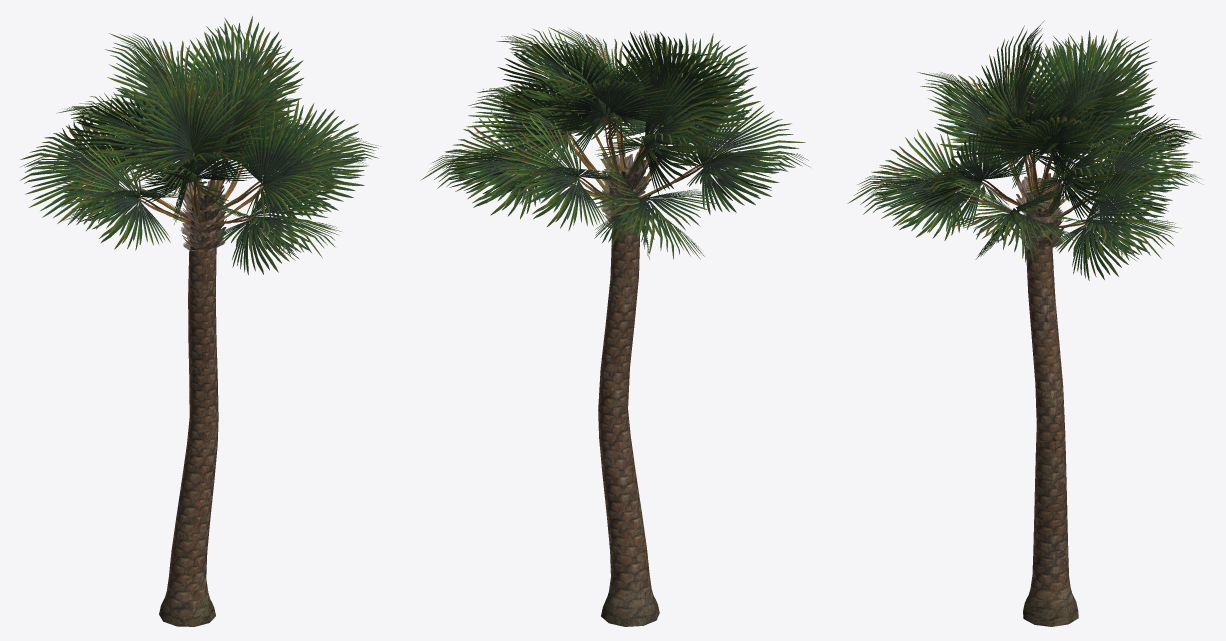
File: MB_Palm_Florida_01.fbx
3 renders of one model, left to right at view 1: azimuth 30°, elevation 25°; view 2: azimuth 150°, elevation 25°; view 3: azimuth 270°, elevation 25°, orthographic. The views are drawn at different scales.
Visible parts, largest first — view 1: MB_Palm_Florida_01_LOD0; view 2: MB_Palm_Florida_01_LOD0; view 3: MB_Palm_Florida_01_LOD0.
Boxes of the visible parts, x1,y1,x2,y2 form: MB_Palm_Florida_01_LOD0: (20,16,380,626); MB_Palm_Florida_01_LOD0: (420,27,810,626); MB_Palm_Florida_01_LOD0: (847,20,1203,626).
Size of what is drawn, in the model's own units: 490 by 807 by 467.
